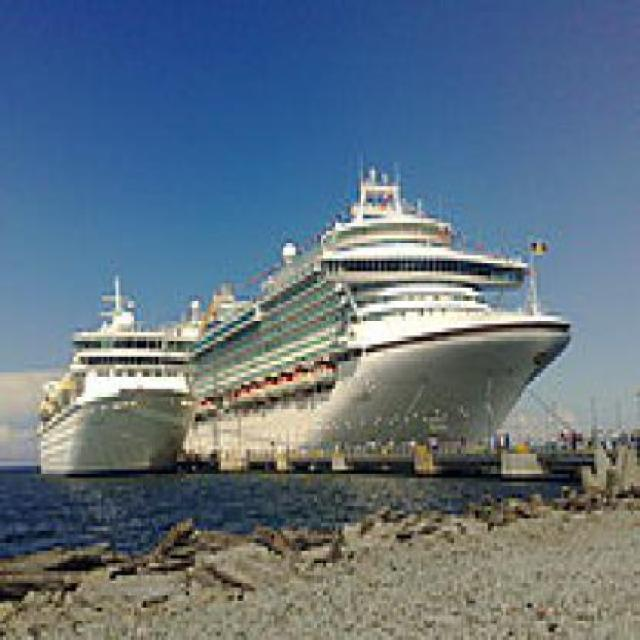cruise: (168, 146, 577, 471), (32, 265, 206, 479)
